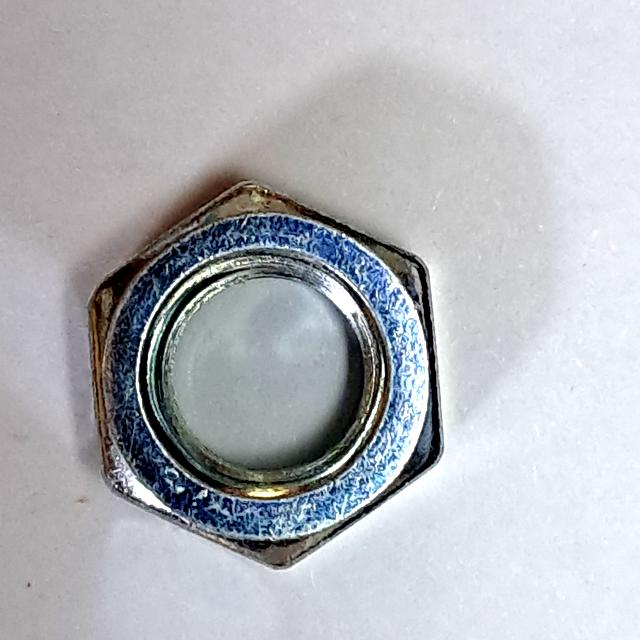Excellent: (72, 175, 457, 581)
